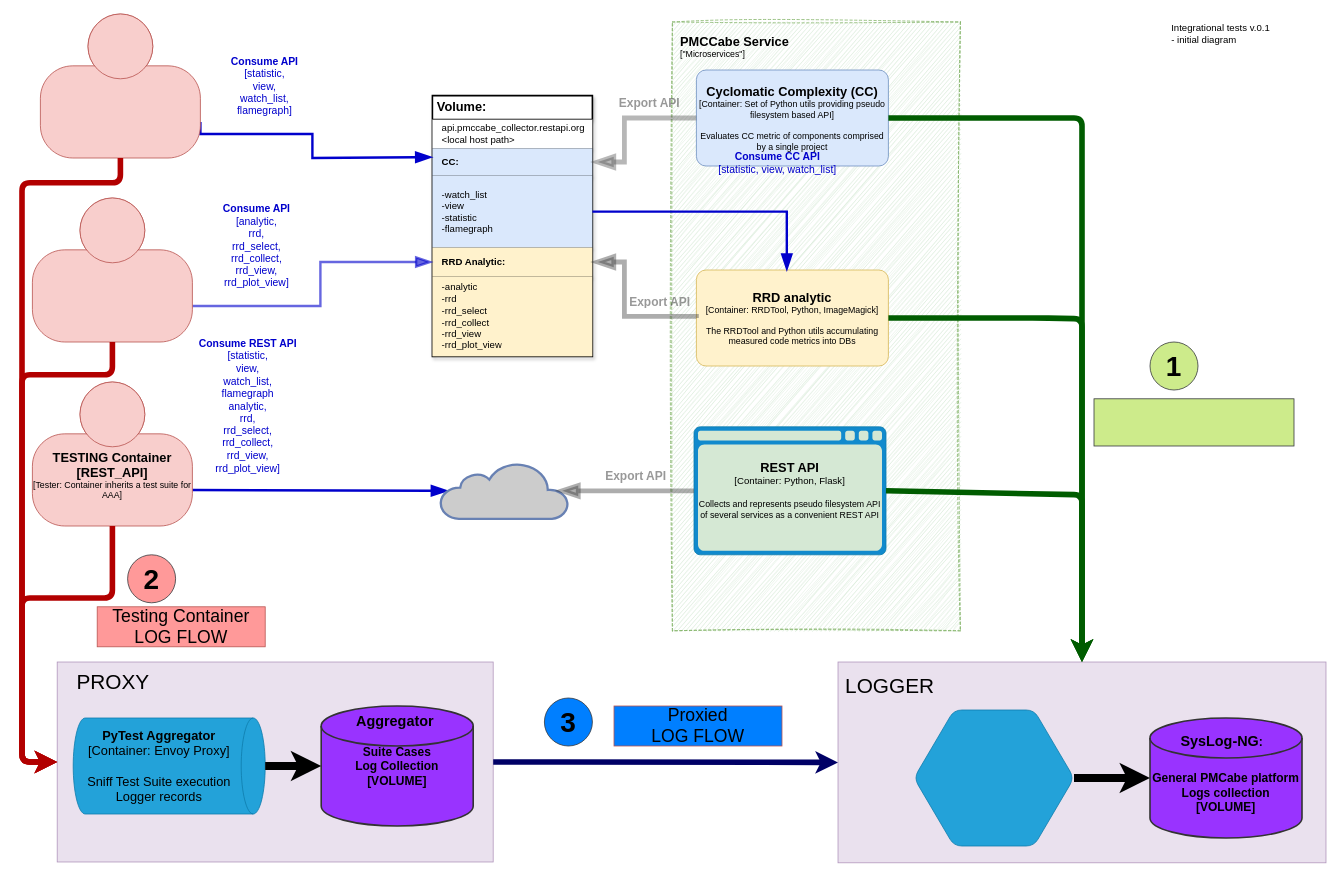
The diagram is 1340 pixels wide and 877 high, and some of its shapes have lost their labels. The centre of each missing label's shape, as x and y in pixels:
"Main Container primarily LOG FLOW" goes at pixel 1193 422.
"SysLog-NG [Container: Syslog] Log aggregator for the entire PMCCabe platform" goes at pixel 993 777.
"TESTING Container [CC] [Tester: Container inherits a test suite for AAA]" goes at pixel 120 85.
"TESTING Container [RRD] [Tester: Container inherits a test suite for AAA]" goes at pixel 112 269.
"WEB" goes at pixel 504 490.
